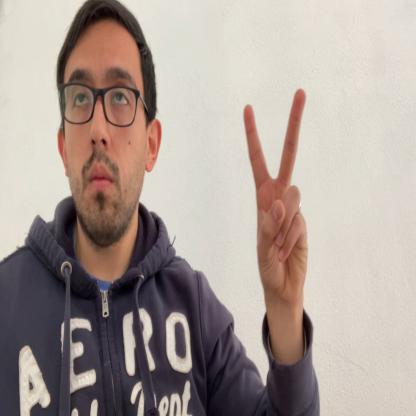V: (243, 88, 310, 305)
